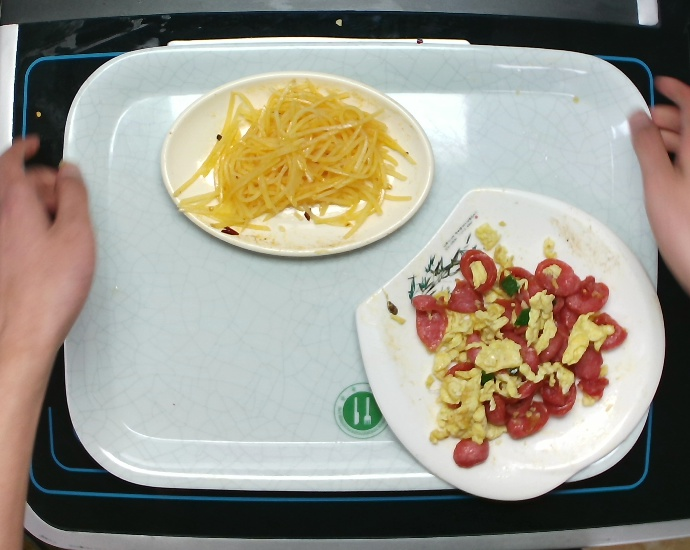JYsf-Mian_Pan: (358, 186, 670, 503)
JYsf-Tuo_Yuan_Wan: (164, 73, 439, 262)
